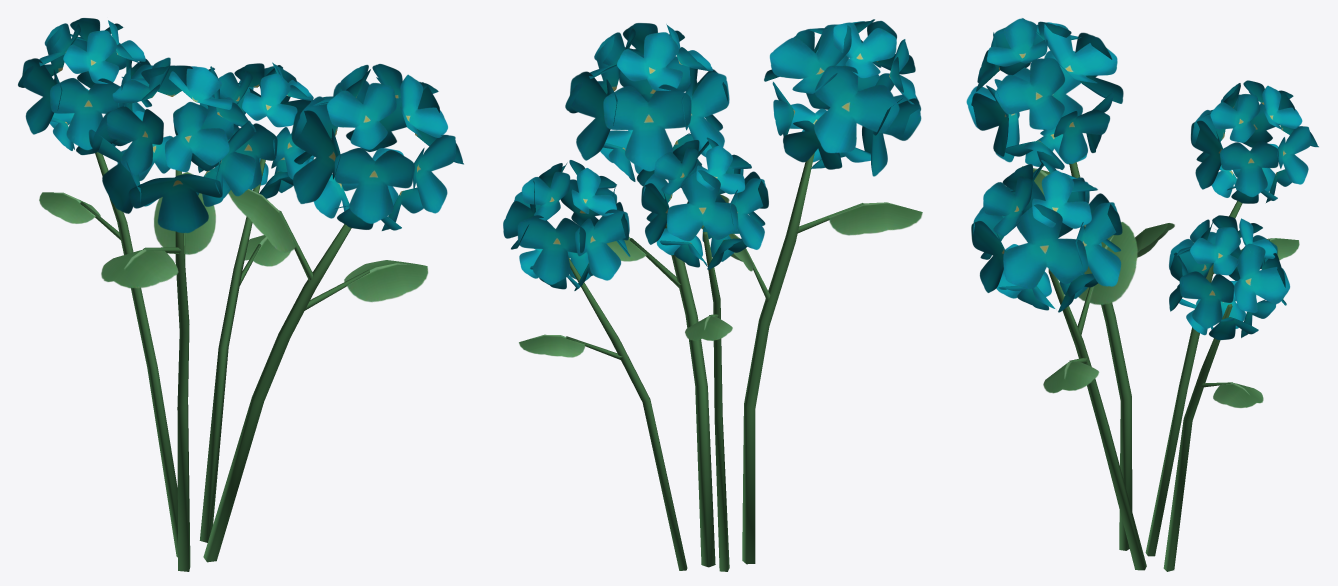
The model's file is flower_1_clump.glb.
3 renders of one model, left to right at view 1: azimuth 30°, elevation 25°; view 2: azimuth 150°, elevation 25°; view 3: azimuth 270°, elevation 25°, orthographic. The views are drawn at different scales.
Parts seen in each view (by area): view 1: Flower_1_Clump; view 2: Flower_1_Clump; view 3: Flower_1_Clump.
Boxes of the visible parts, bbox=[...] form: Flower_1_Clump: bbox=[18, 18, 463, 571]; Flower_1_Clump: bbox=[503, 19, 922, 571]; Flower_1_Clump: bbox=[966, 18, 1318, 571].
Bounding box in the file's own units: 0.4711 × 0.6713 × 0.4352.
1 material, 1 textured.
